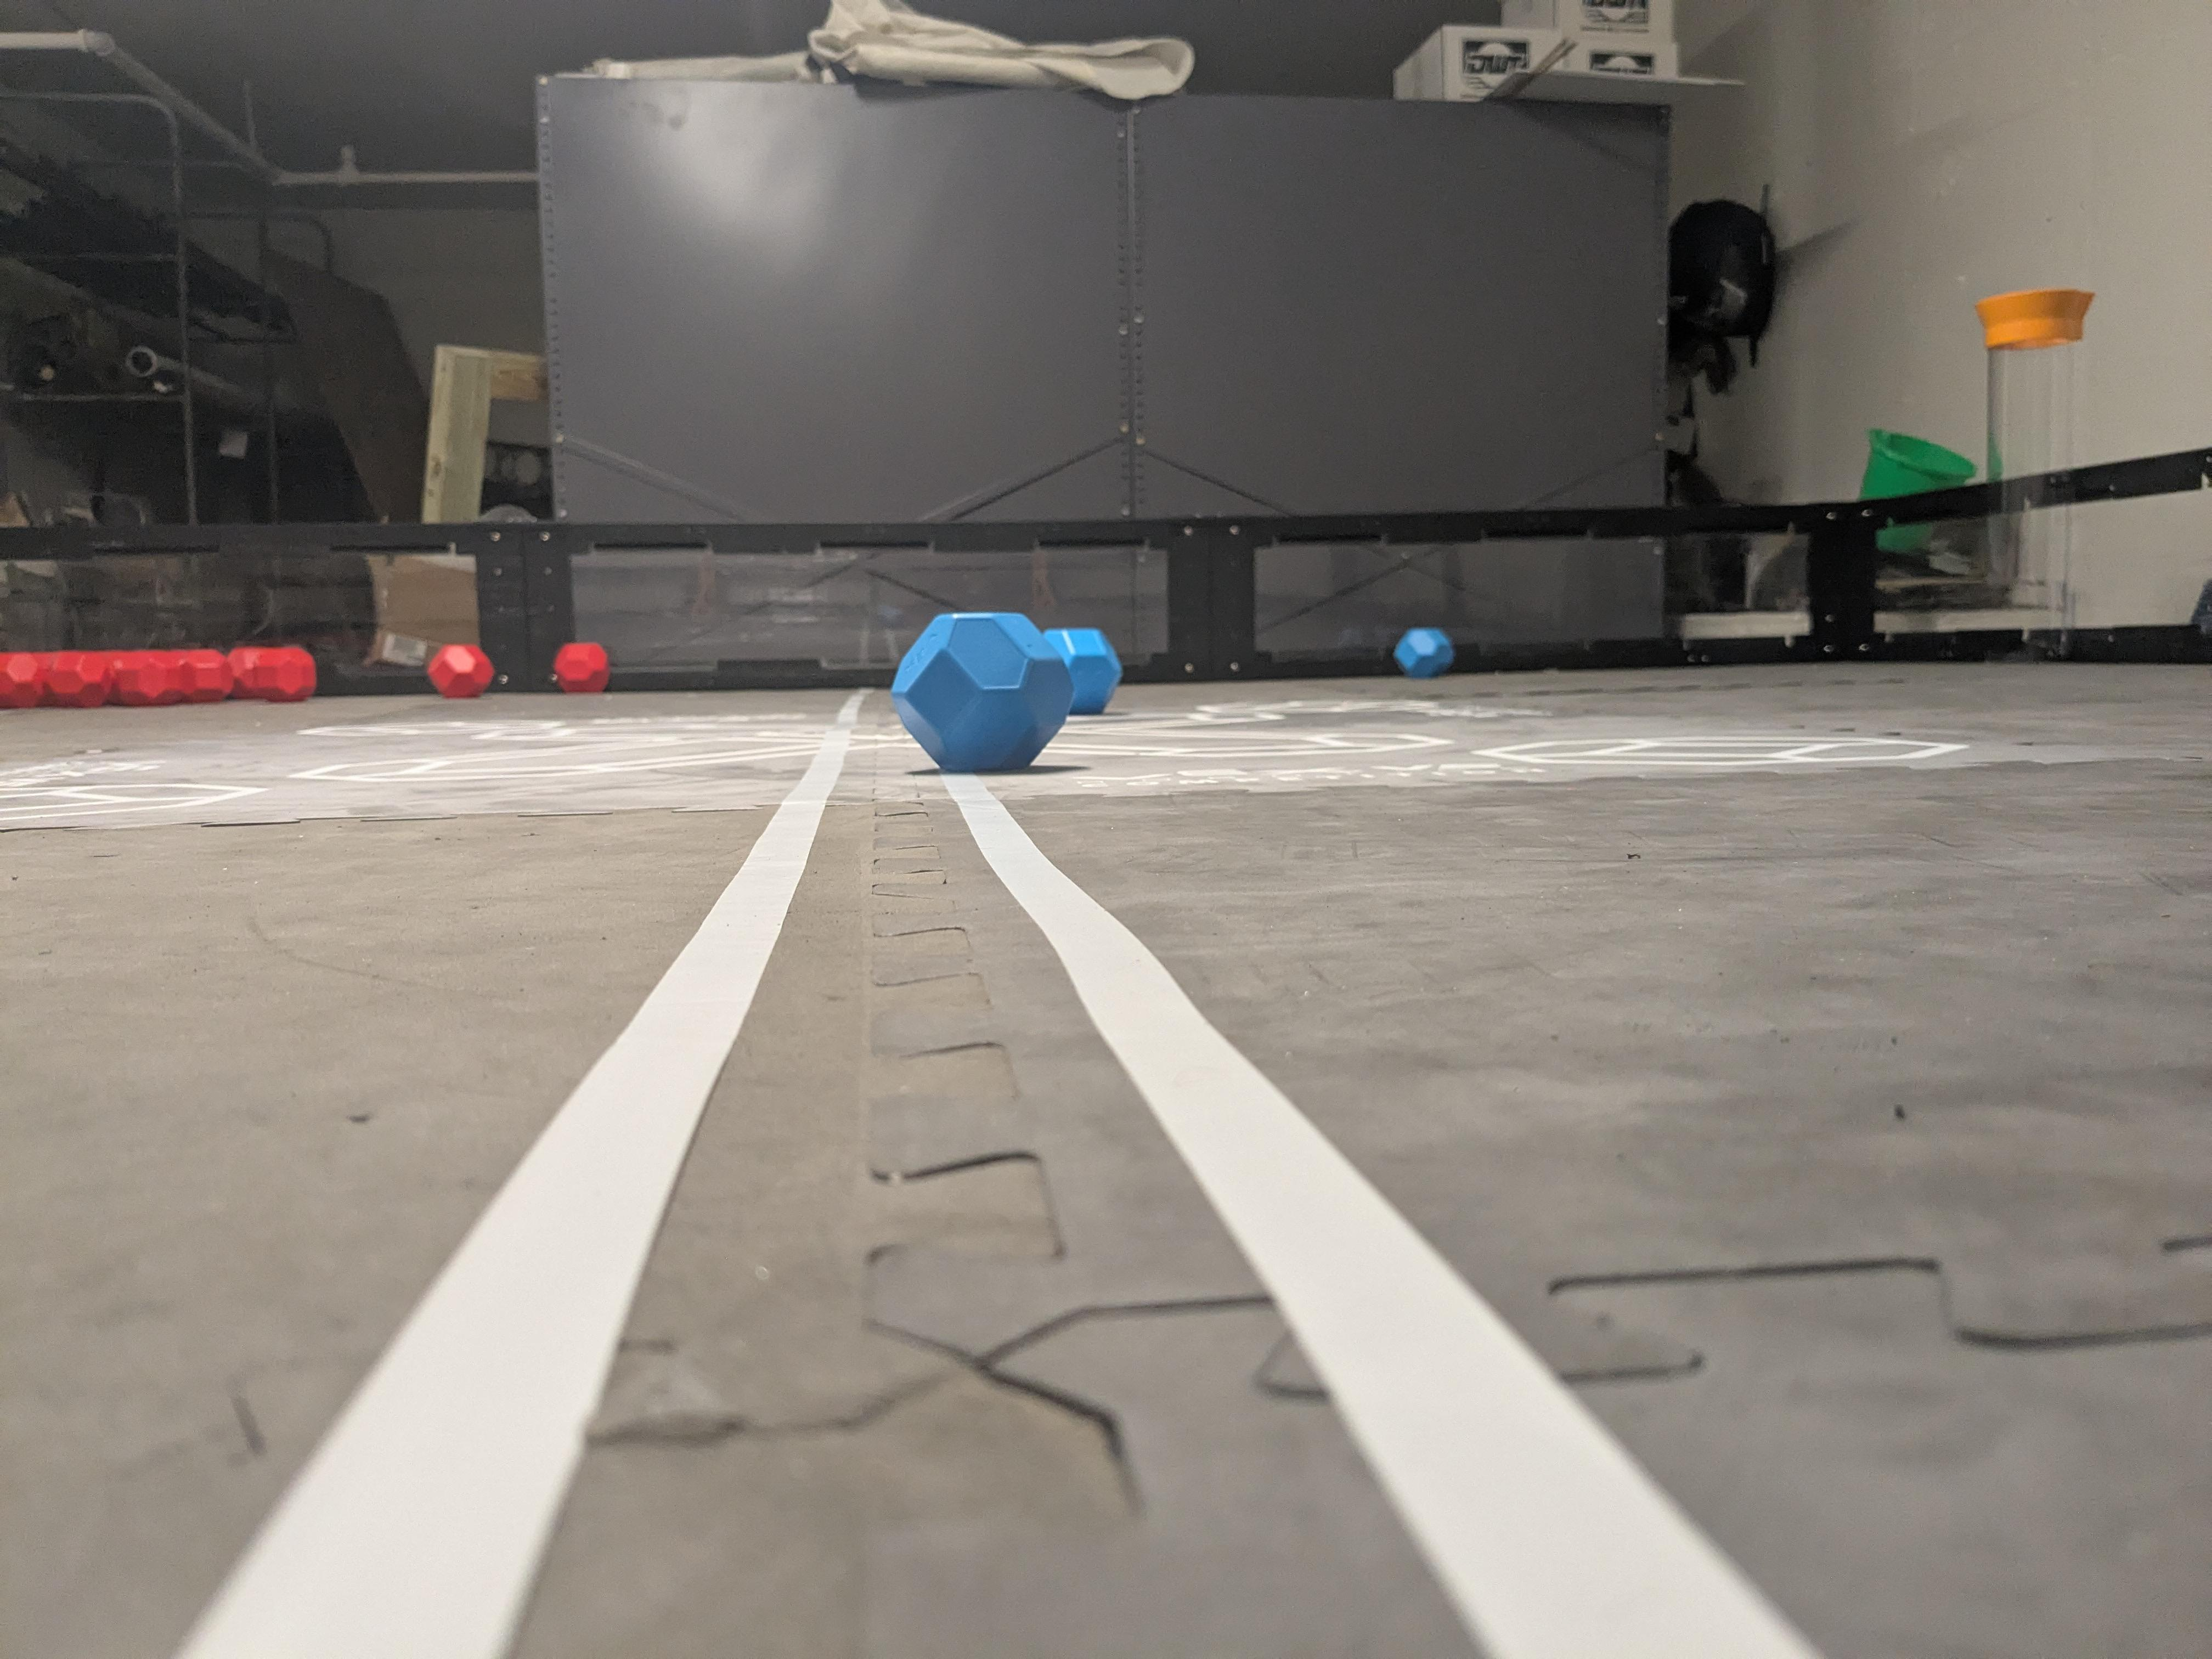Vex-Pieces-BLUE: (892, 613, 1120, 770), (1393, 627, 1454, 678)
